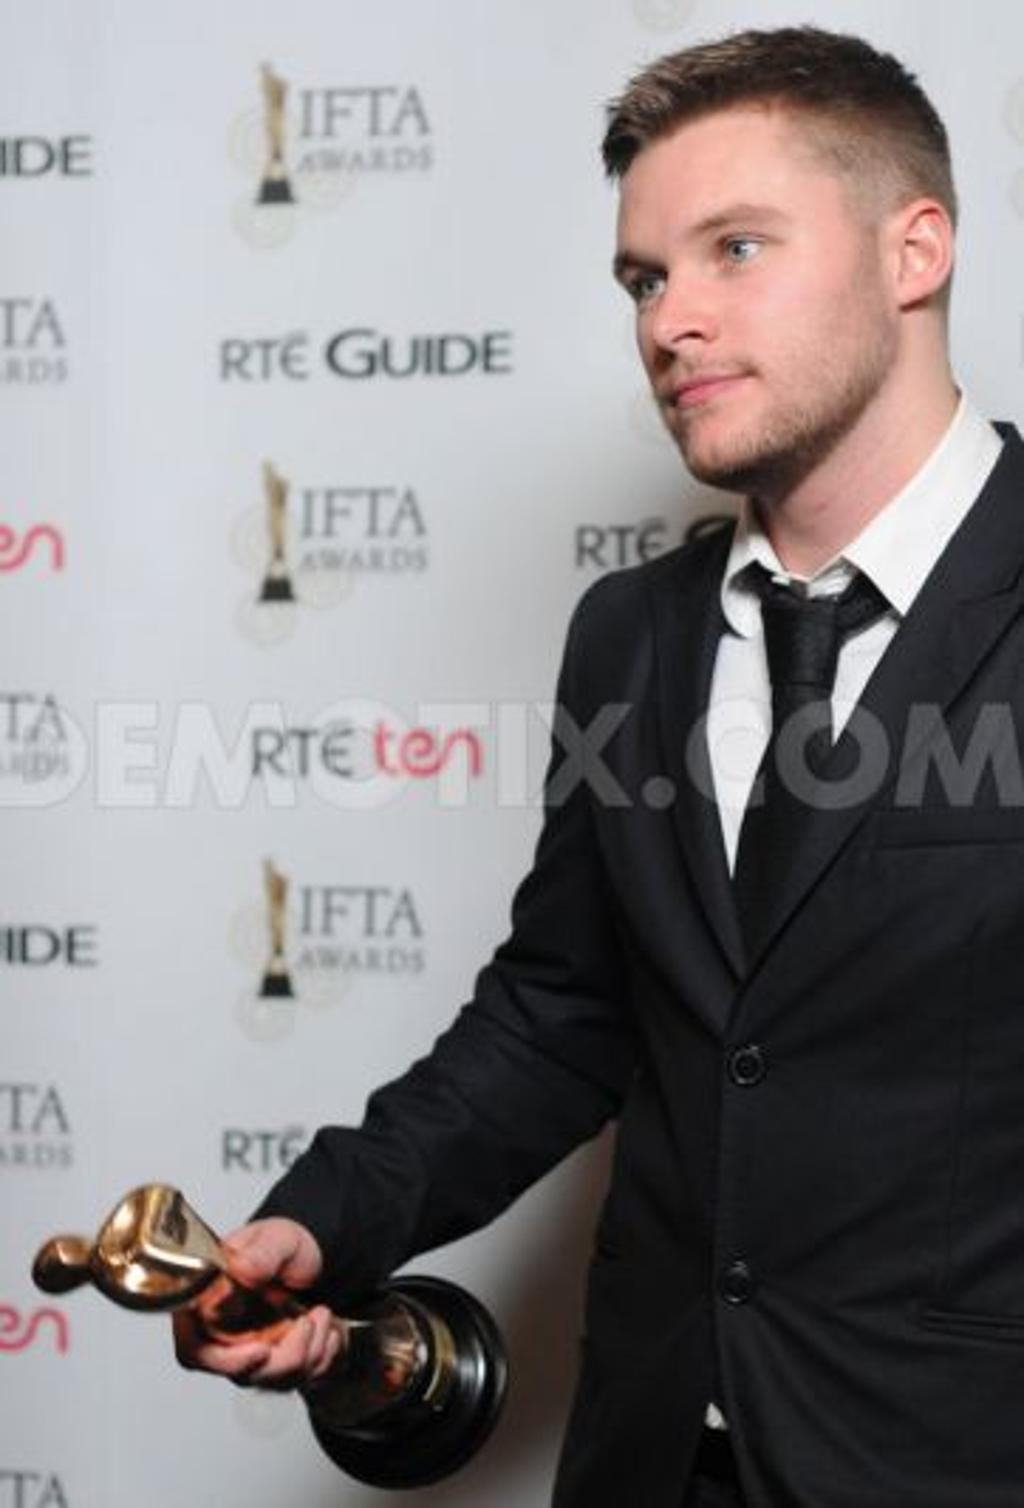face: (612, 109, 892, 474)
